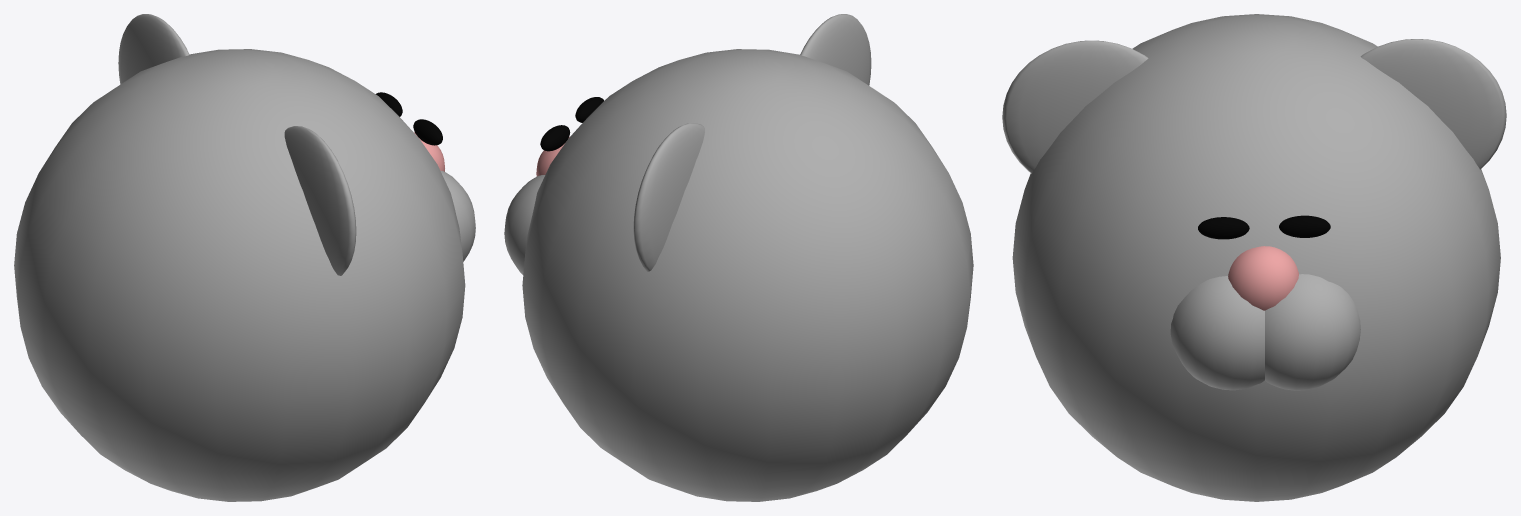
File: kirinrakko 2.fbx
The picture shows the model from 3 angles, left to right: view 1: azimuth 30°, elevation 25°; view 2: azimuth 150°, elevation 25°; view 3: azimuth 270°, elevation 25°; orthographic projection. The views are drawn at different scales.
Parts seen in each view (by area): view 1: pSphere1, pSphere4, pasted__pSphere4, pasted__pSphere3, pasted__pasted__pSphere3; view 2: pSphere1, pasted__pSphere4, pSphere4, pSphere3, pasted__pSphere3; view 3: pSphere1, pSphere4, pasted__pSphere3 (×2), pasted__pSphere4, pSphere3, pasted__pasted__pSphere3 (×2).
Part boxes in pixels (x1,y1,x2,y2): pSphere1: (14,49,465,501); pSphere4: (284,126,356,275); pasted__pSphere4: (118,14,189,84); pasted__pSphere3: (440,170,475,261); pasted__pasted__pSphere3: (413,119,442,145); pSphere1: (522,49,973,501); pasted__pSphere4: (633,123,704,271); pSphere4: (800,14,871,85); pSphere3: (504,175,545,274); pasted__pSphere3: (540,125,570,151); pSphere1: (1012,14,1500,501); pSphere4: (1002,40,1148,173); pasted__pSphere3 (×2): (1170,215,1330,390); pasted__pSphere4: (1360,39,1506,169); pSphere3: (1265,274,1360,390); pasted__pasted__pSphere3 (×2): (1198,217,1298,310).
Size of the model in its own units: 0.9822 by 0.9326 by 0.9634.
